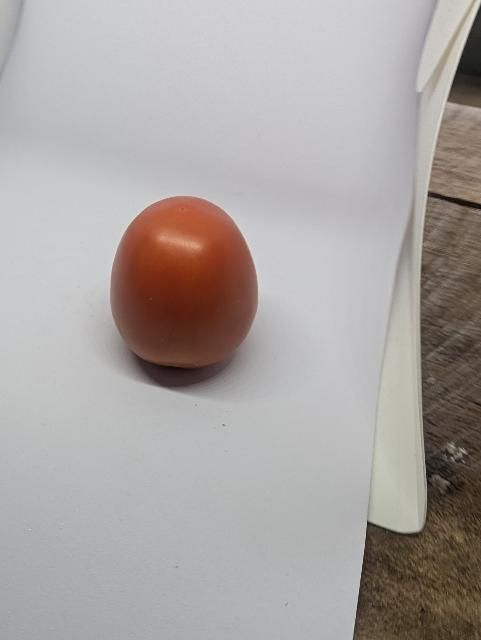red: (105, 189, 262, 389)
